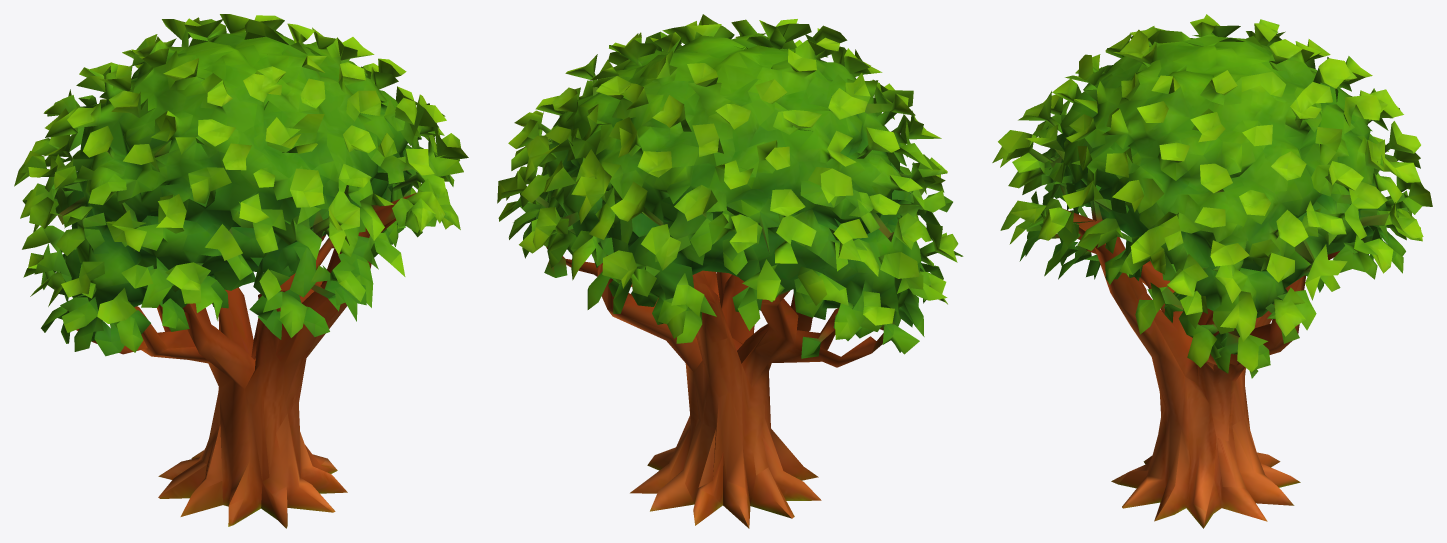
Rendered from tree_oak.glb.
3 renders of one model, left to right at view 1: azimuth 30°, elevation 25°; view 2: azimuth 150°, elevation 25°; view 3: azimuth 270°, elevation 25°, orthographic. The views are drawn at different scales.
Visible parts, largest first — view 1: tripo_node_4c2e7e18-eeda-4c35-a030-6ba4e3eda0c5; view 2: tripo_node_4c2e7e18-eeda-4c35-a030-6ba4e3eda0c5; view 3: tripo_node_4c2e7e18-eeda-4c35-a030-6ba4e3eda0c5.
Boxes of the visible parts, x1,y1,x2,y2 form: tripo_node_4c2e7e18-eeda-4c35-a030-6ba4e3eda0c5: [14, 14, 468, 528]; tripo_node_4c2e7e18-eeda-4c35-a030-6ba4e3eda0c5: [497, 14, 963, 528]; tripo_node_4c2e7e18-eeda-4c35-a030-6ba4e3eda0c5: [992, 14, 1432, 528].
Bounding box in the file's own units: 4.88 × 4.94 × 4.48.
Materials: 1 (1 with a texture image).
